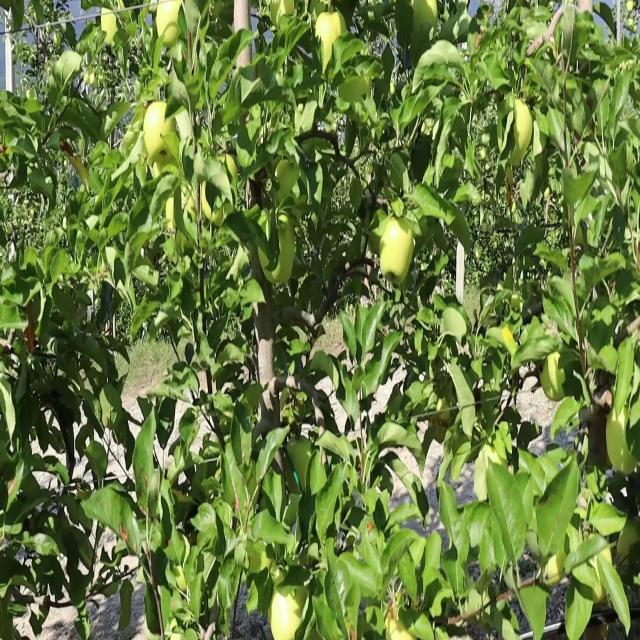apple: (380, 220, 416, 281), (272, 590, 303, 639), (589, 547, 612, 606), (144, 106, 168, 162), (156, 1, 182, 50), (316, 14, 342, 62), (512, 99, 534, 155), (544, 355, 564, 404), (544, 547, 567, 588), (204, 186, 226, 228), (24, 305, 38, 354), (416, 0, 440, 28), (333, 7, 355, 36), (232, 0, 251, 32), (276, 0, 297, 27), (389, 271, 410, 297), (200, 184, 213, 224), (333, 7, 352, 34), (100, 14, 117, 41), (224, 149, 239, 178), (504, 327, 517, 354), (212, 206, 226, 228), (60, 142, 73, 158), (168, 199, 175, 226)
